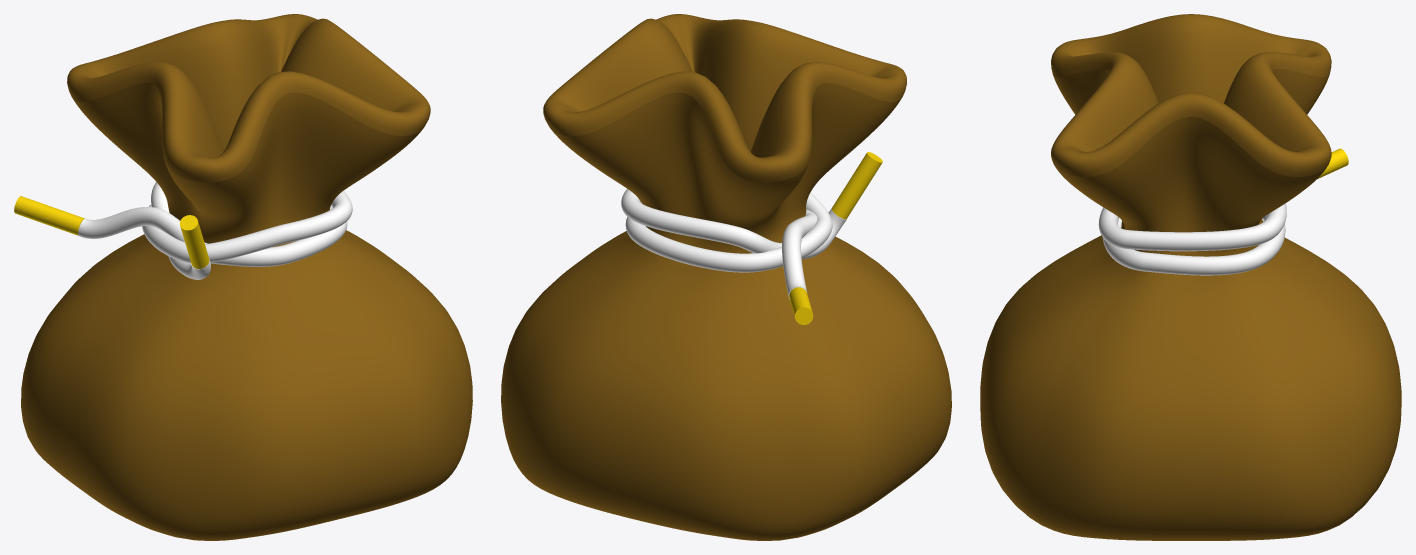
3 views of the same model, side by side, from view 1: azimuth 30°, elevation 25°; view 2: azimuth 150°, elevation 25°; view 3: azimuth 270°, elevation 25° (orthographic).
Visible parts, largest first — view 1: Cube_2, Sweep_1_2, Cylinder, Cylinder_1; view 2: Cube_2, Sweep_1_2, Cylinder_1, Cylinder; view 3: Cube_2, Sweep_1_2.
Part boxes in pixels (x1,y1,x2,y2): Cube_2: [21, 14, 472, 540]; Sweep_1_2: [78, 182, 352, 279]; Cylinder: [14, 196, 84, 235]; Cylinder_1: [179, 215, 209, 268]; Cube_2: [501, 14, 951, 540]; Sweep_1_2: [621, 189, 847, 299]; Cylinder_1: [831, 152, 882, 219]; Cylinder: [789, 287, 813, 324]; Cube_2: [980, 14, 1401, 540]; Sweep_1_2: [1098, 203, 1286, 275].
Bounding box in the file's own units: 0.1809 × 0.1947 × 0.1768.
